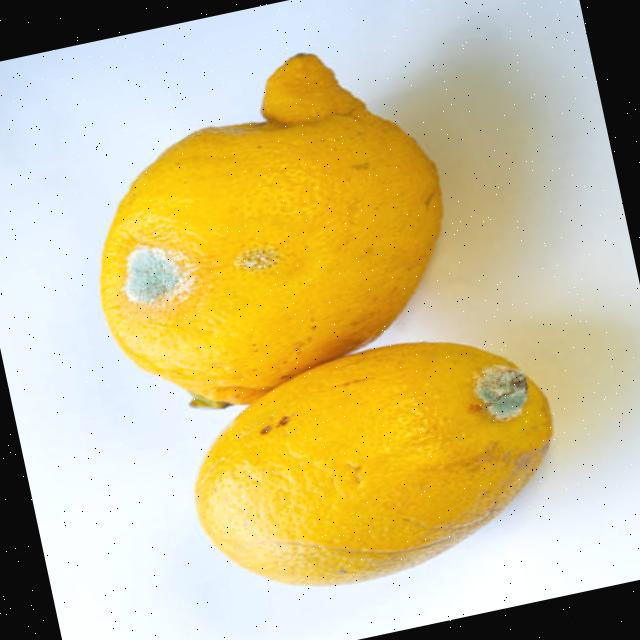Rotten: (52, 31, 475, 432), (169, 314, 576, 612)
